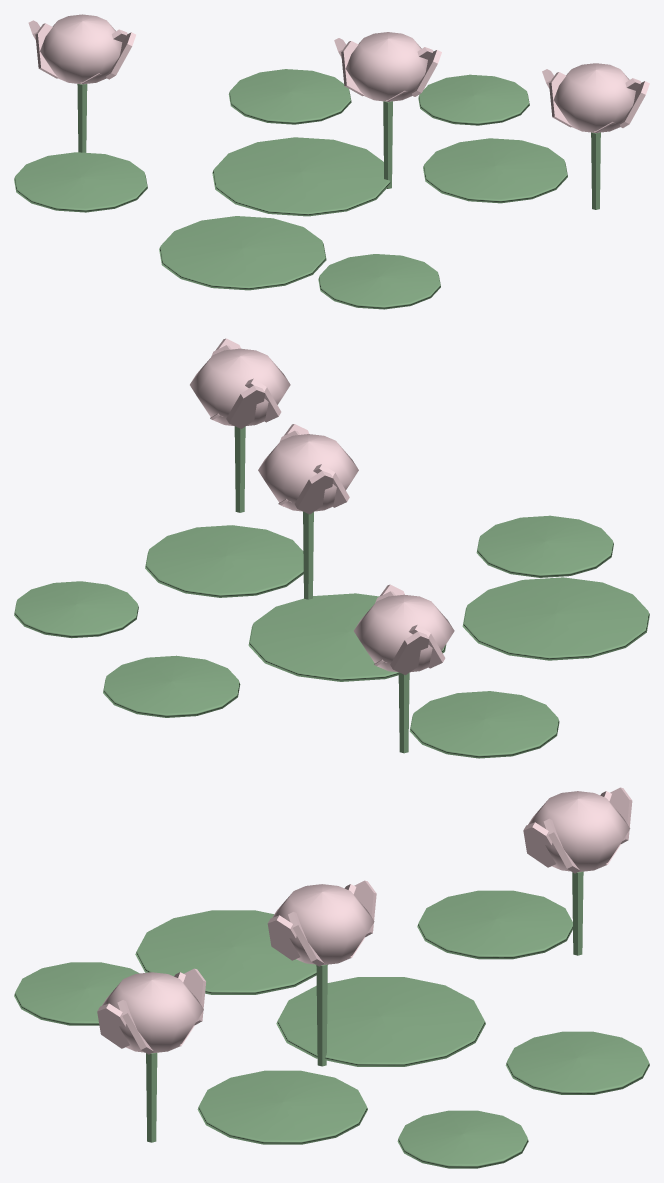
The model's file is lotus-cluster.glb.
3 renders of one model, top to bottom at view 1: azimuth 30°, elevation 25°; view 2: azimuth 150°, elevation 25°; view 3: azimuth 270°, elevation 25°, orthographic. The views are drawn at different scales.
Parts seen in each view (by area): view 1: lotus-cluster; view 2: lotus-cluster; view 3: lotus-cluster.
Boxes of the visible parts, box(x1,y1,x2,y2) form: lotus-cluster: box(14, 14, 649, 309); lotus-cluster: box(14, 338, 649, 758); lotus-cluster: box(14, 787, 649, 1168).
Bounding box in the file's own units: 1.98 × 0.5799 × 1.94.
